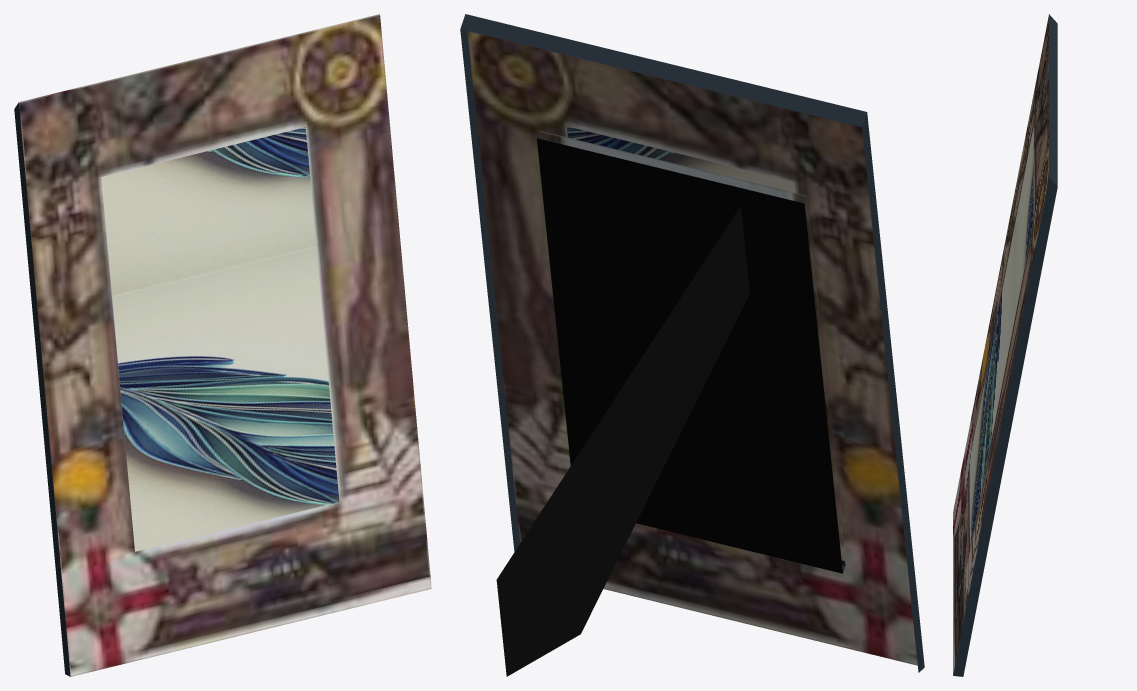
Rendered from nautical+photo+frame_tabletop.obj.
3 renders of one model, left to right at view 1: azimuth 30°, elevation 25°; view 2: azimuth 150°, elevation 25°; view 3: azimuth 270°, elevation 25°, orthographic. The views are drawn at different scales.
Parts seen in each view (by area): view 1: Mesh2 Model; view 2: Mesh2 Model, Mesh3 Model, Mesh1 Group1 Model; view 3: Mesh2 Model.
Part boxes in pixels (x1=…): Mesh2 Model: x1=14, y1=14, x2=431, y2=676; Mesh2 Model: x1=460, y1=14, x2=924, y2=672; Mesh3 Model: x1=536, y1=130, x2=845, y2=573; Mesh1 Group1 Model: x1=496, y1=206, x2=749, y2=676; Mesh2 Model: x1=953, y1=14, x2=1057, y2=676.
Size of the model in its own units: 58.28 by 85.88 by 25.58.
7 materials, 4 textured.
